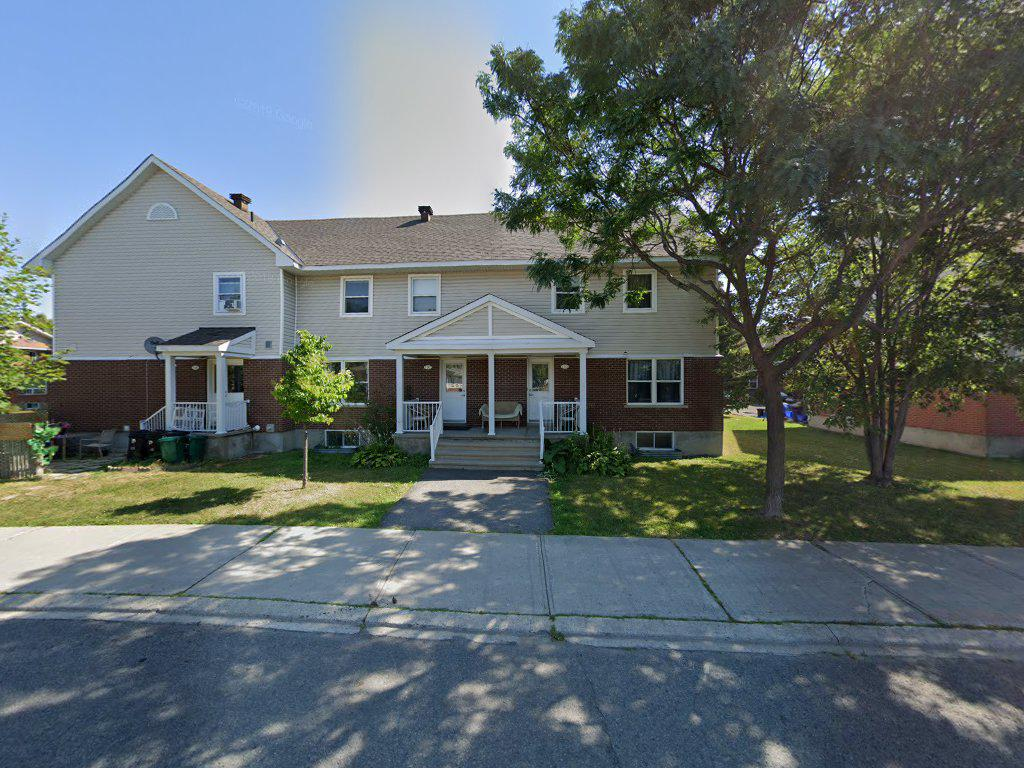trunk: (753, 346, 798, 537), (852, 362, 911, 494)
